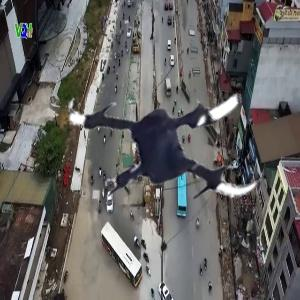drone: (69, 30, 278, 239)
